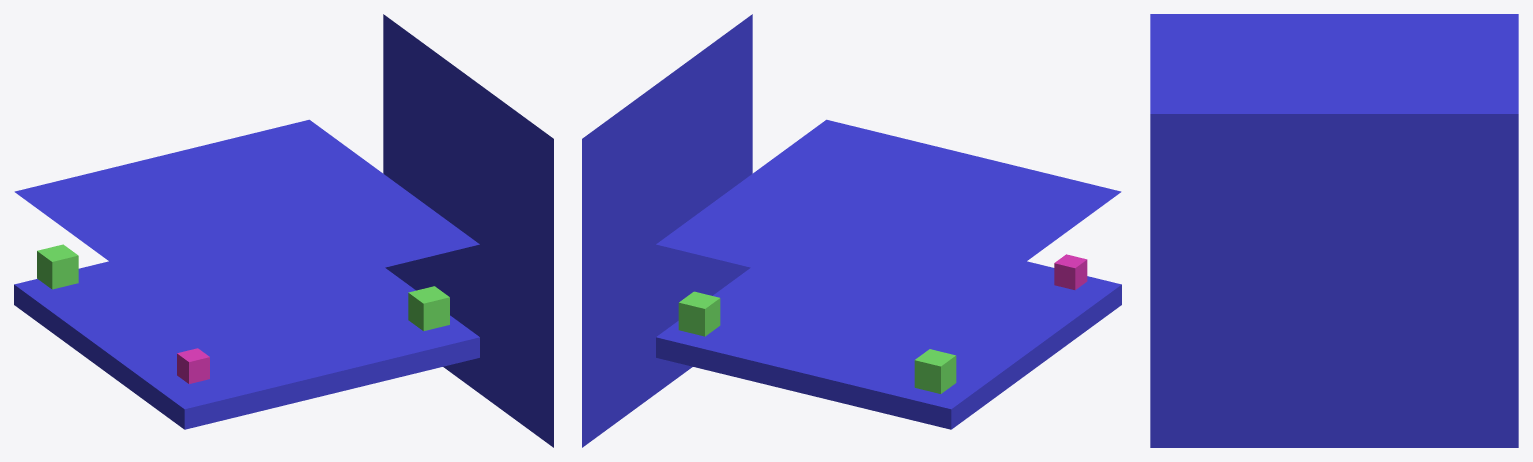
Rendered from map_test_1.glb.
3 views of the same model, side by side, from view 1: azimuth 30°, elevation 25°; view 2: azimuth 150°, elevation 25°; view 3: azimuth 270°, elevation 25° (orthographic). The views are drawn at different scales.
Visible parts, largest first — view 1: Cube.005, Cube.006, Cube.004, Cube, Cube.002, Cube.003; view 2: Cube.005, Cube.006, Cube.004, Cube, Cube.001, Cube.003; view 3: Cube.006, Cube.005.
Boxes of the visible parts, bbox=[...] form: Cube.005: bbox=[14, 119, 479, 316]; Cube.006: bbox=[383, 14, 553, 447]; Cube.004: bbox=[14, 261, 479, 429]; Cube: bbox=[37, 244, 78, 289]; Cube.002: bbox=[408, 286, 449, 331]; Cube.003: bbox=[177, 348, 209, 383]; Cube.005: bbox=[656, 119, 1121, 316]; Cube.006: bbox=[582, 14, 752, 447]; Cube.004: bbox=[656, 261, 1121, 429]; Cube: bbox=[914, 349, 956, 393]; Cube.001: bbox=[678, 291, 720, 336]; Cube.003: bbox=[1054, 254, 1087, 289]; Cube.006: bbox=[1150, 114, 1518, 447]; Cube.005: bbox=[1150, 14, 1518, 113].
Bounding box in the file's own units: 27.99 × 22.39 × 22.39.
